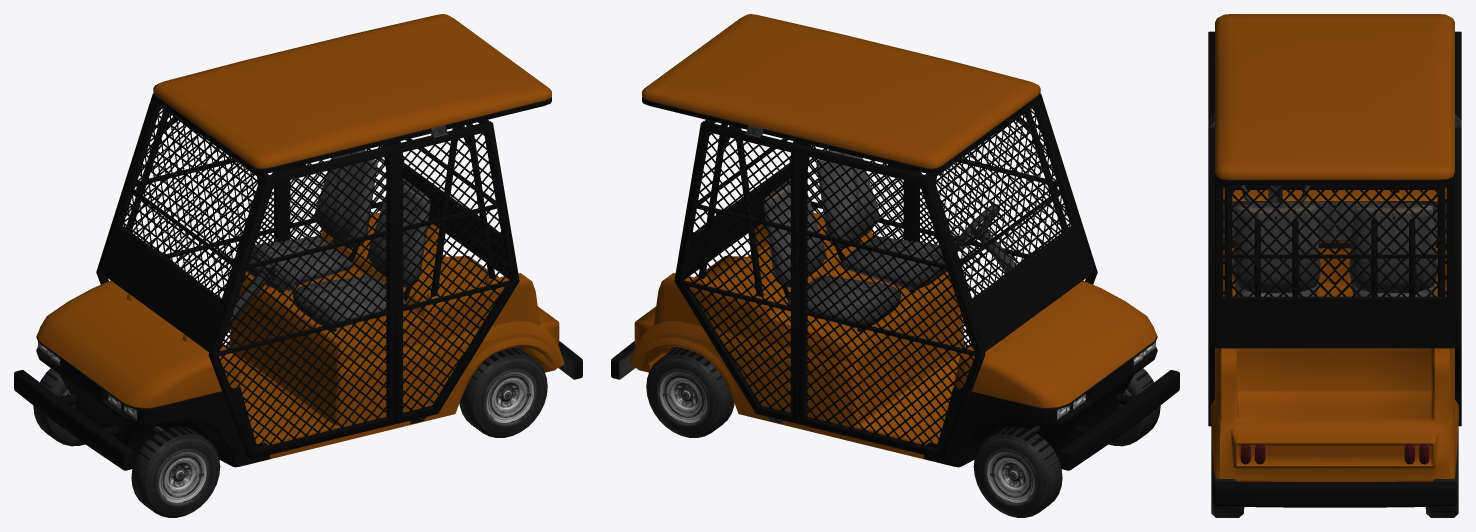
The model's file is GOLFCAR.fbx.
The picture shows the model from 3 angles, left to right: view 1: azimuth 30°, elevation 25°; view 2: azimuth 150°, elevation 25°; view 3: azimuth 270°, elevation 25°; orthographic projection. The views are drawn at different scales.
Visible parts, largest first — view 1: body, grid, cage, seats, plastic_front, wheel_01, wheel_02, bumpers, rollcage, wheel_04, steering_wheel; view 2: body, grid, cage, seats, plastic_front, wheel_04, wheel_03, bumpers, rollcage, wheel_01, steering_wheel; view 3: body, cage, seats, grid, bumpers, rollcage, bottom, plastic_front, light, wheel_02, wheel_03, steering_wheel.
Boxes of the visible parts, x1=… form: body: x1=37, y1=14, x2=564, y2=458; grid: x1=123, y1=106, x2=511, y2=450; cage: x1=96, y1=94, x2=519, y2=459; seats: x1=246, y1=150, x2=430, y2=331; plastic_front: x1=36, y1=93, x2=551, y2=467; wheel_01: x1=131, y1=426, x2=220, y2=517; wheel_02: x1=459, y1=347, x2=547, y2=437; bumpers: x1=14, y1=341, x2=582, y2=470; rollcage: x1=126, y1=108, x2=495, y2=342; wheel_04: x1=33, y1=368, x2=85, y2=446; steering_wheel: x1=226, y1=244, x2=295, y2=332; body: x1=629, y1=14, x2=1156, y2=458; grid: x1=682, y1=106, x2=1070, y2=450; cage: x1=674, y1=94, x2=1097, y2=459; seats: x1=763, y1=150, x2=947, y2=331; plastic_front: x1=642, y1=93, x2=1157, y2=467; wheel_04: x1=973, y1=426, x2=1062, y2=517; wheel_03: x1=646, y1=347, x2=734, y2=437; bumpers: x1=611, y1=341, x2=1179, y2=470; rollcage: x1=698, y1=108, x2=1067, y2=342; wheel_01: x1=1108, y1=368, x2=1160, y2=446; steering_wheel: x1=954, y1=204, x2=1017, y2=272; body: x1=1211, y1=14, x2=1458, y2=481; cage: x1=1208, y1=31, x2=1461, y2=426; seats: x1=1232, y1=202, x2=1437, y2=296; grid: x1=1223, y1=185, x2=1446, y2=296; bumpers: x1=1213, y1=481, x2=1456, y2=507; rollcage: x1=1224, y1=185, x2=1445, y2=296; bottom: x1=1223, y1=201, x2=1446, y2=241; plastic_front: x1=1215, y1=173, x2=1454, y2=250; light: x1=1240, y1=443, x2=1429, y2=464; wheel_02: x1=1211, y1=429, x2=1244, y2=517; wheel_03: x1=1425, y1=429, x2=1458, y2=517; steering_wheel: x1=1240, y1=185, x2=1310, y2=203.
Size of the model in its own units: 99.1 by 69.46 by 42.81.
